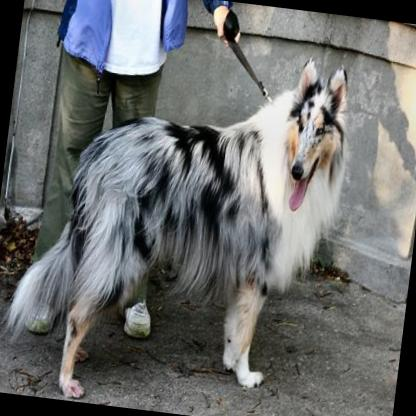collie: (0, 23, 359, 416)
